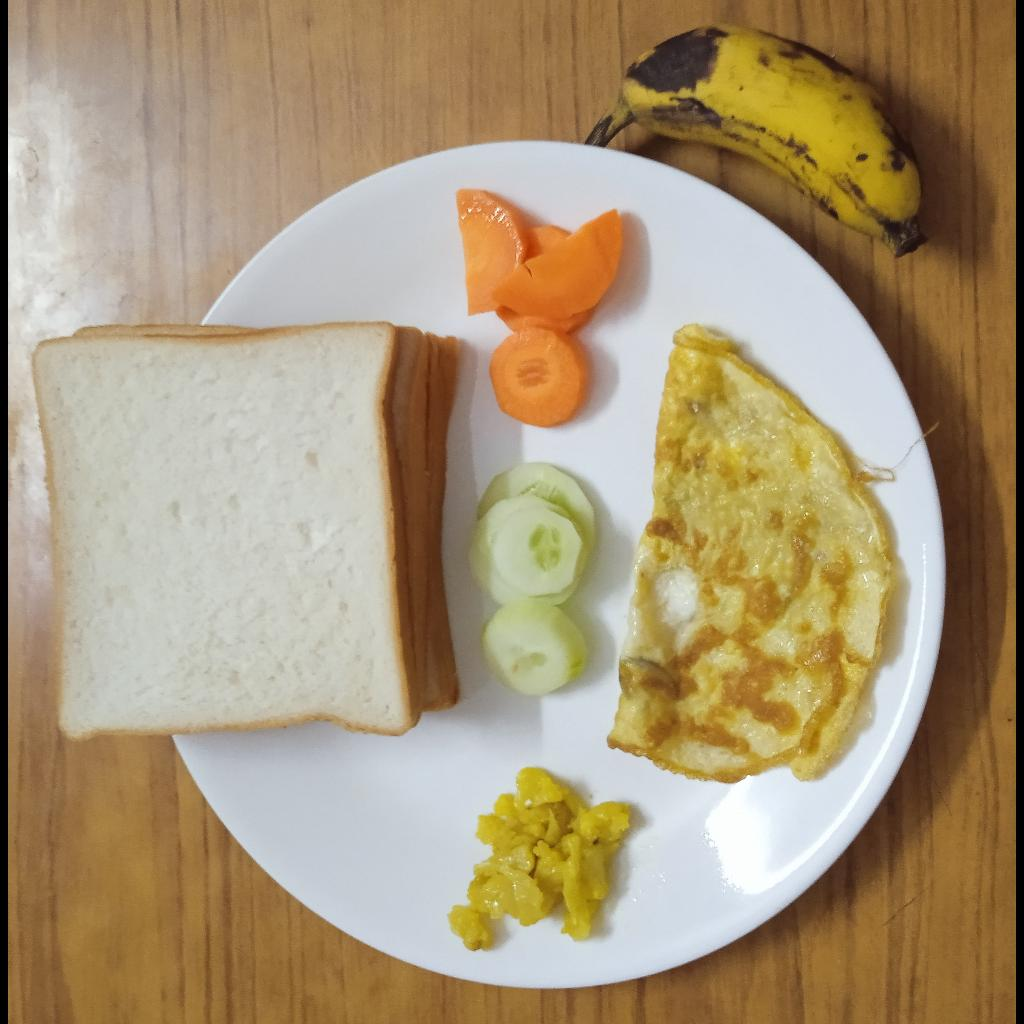banana: (584, 23, 927, 258)
bread: (33, 321, 467, 744)
carrot: (457, 187, 626, 429)
cucumber: (469, 461, 597, 696)
egg-poached: (608, 323, 898, 784)
vegetable: (448, 767, 631, 951)
